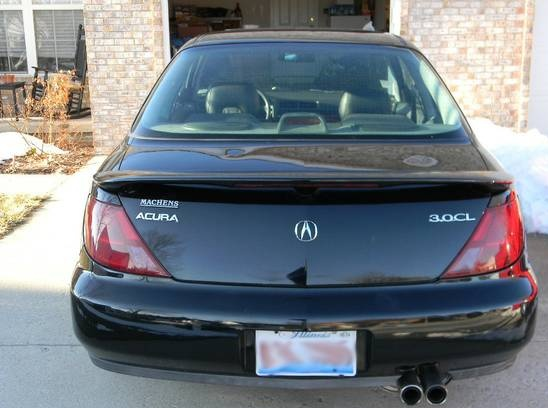acura: (64, 19, 541, 408)
